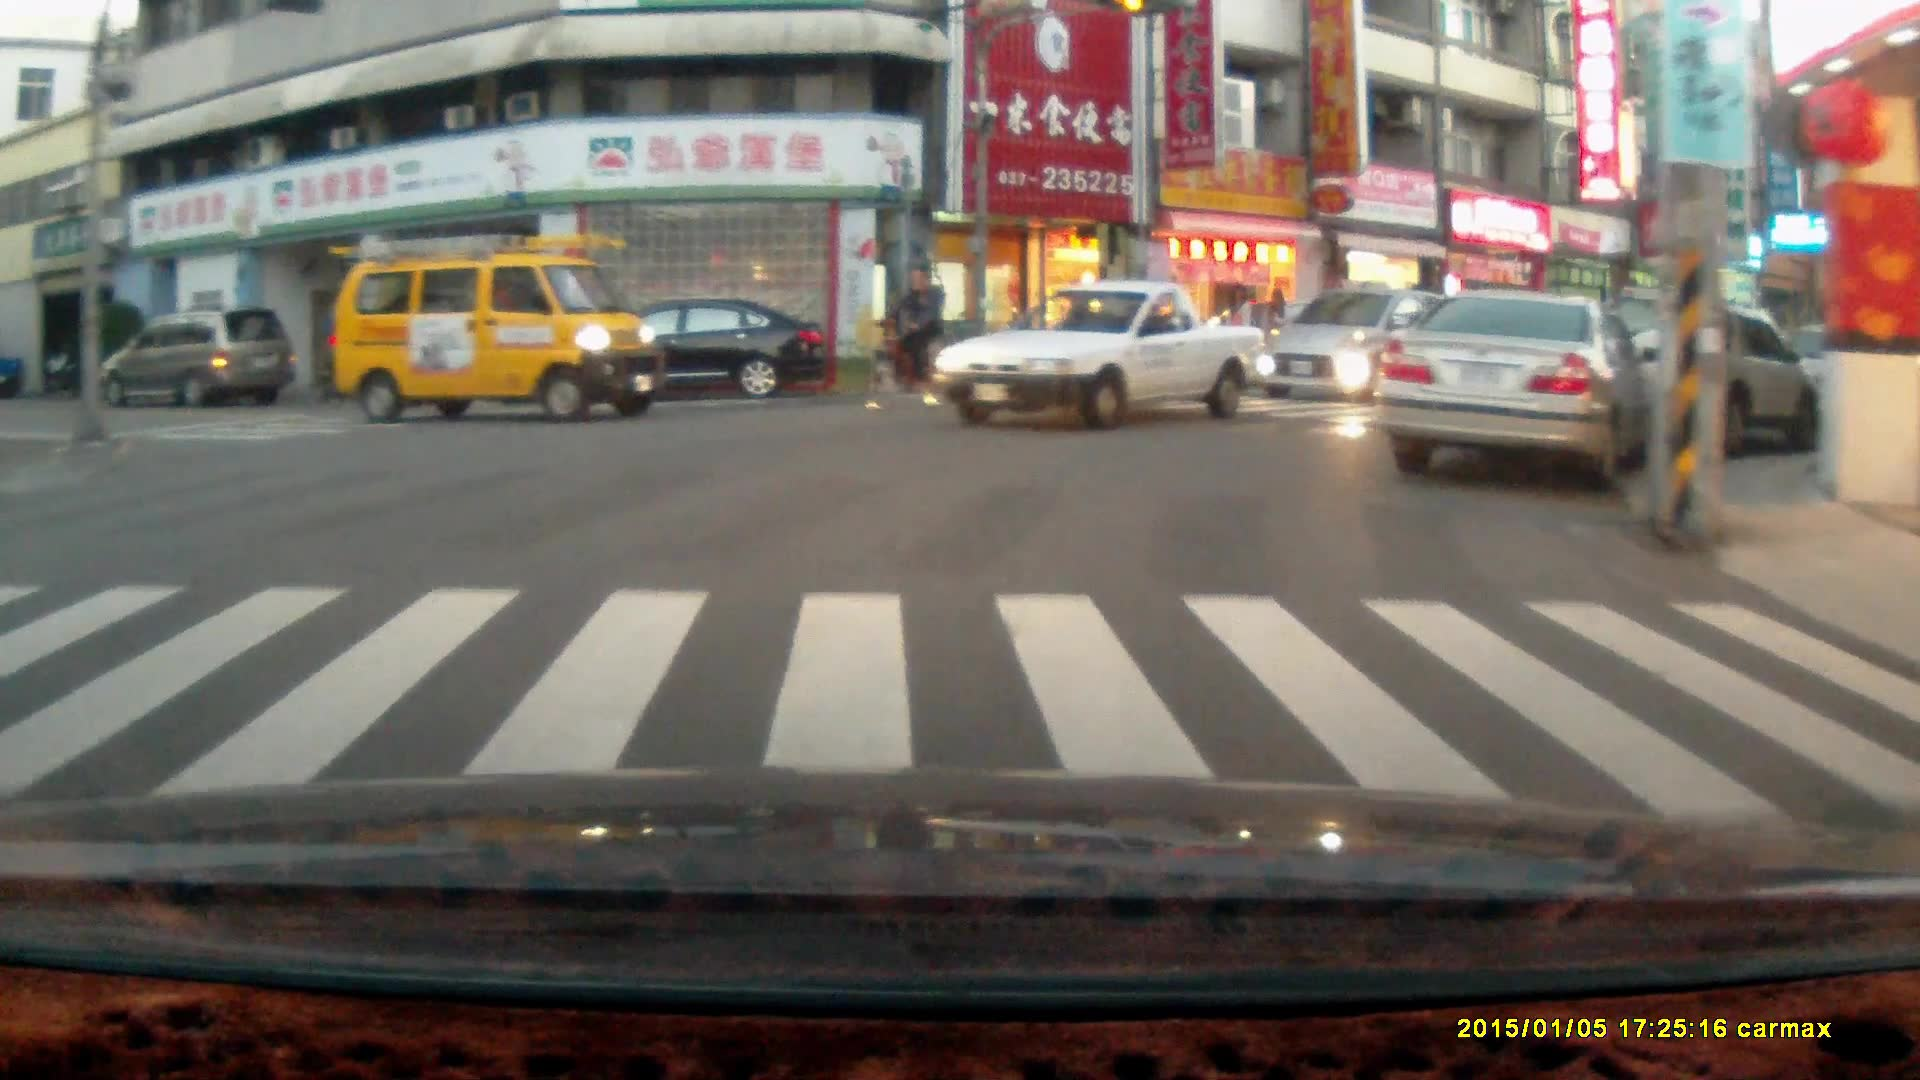pedestrian: (1221, 282, 1252, 374), (1263, 286, 1290, 380)
rider: (857, 261, 968, 411)
vehicle: (323, 229, 672, 426), (1377, 285, 1628, 494), (932, 278, 1274, 432), (1567, 290, 1829, 461), (556, 293, 828, 404), (1255, 282, 1456, 405), (94, 302, 302, 413)
